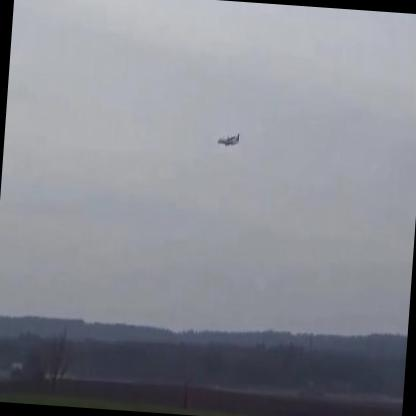plane: (217, 133, 239, 148)
